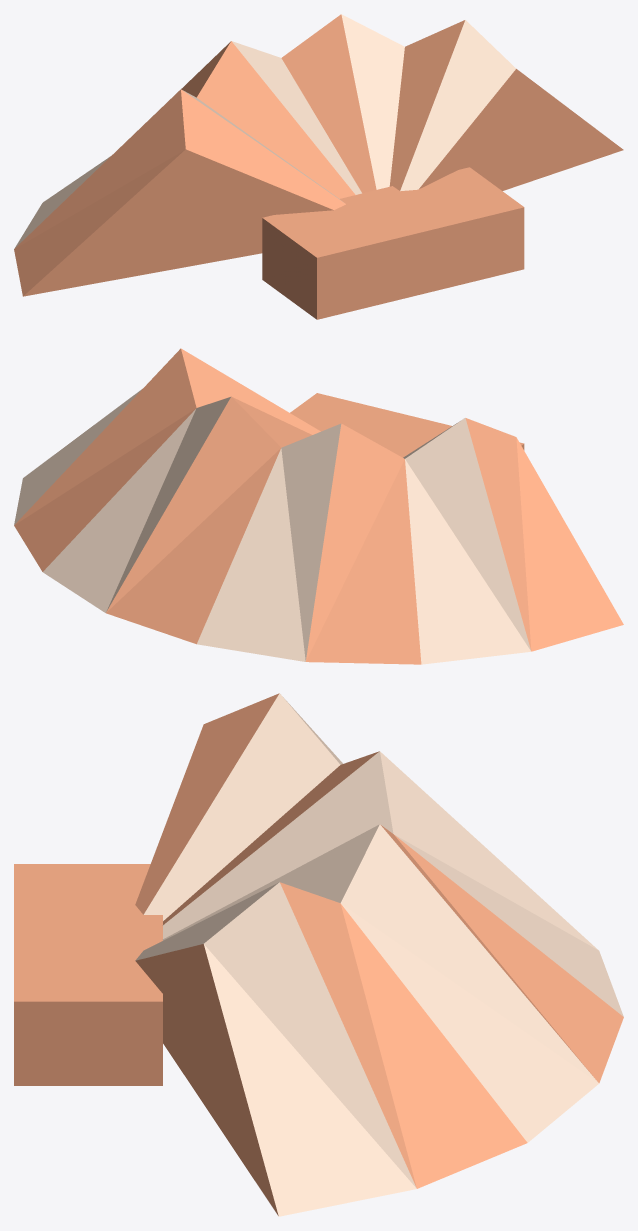
File: shell_scallop.fbx
3 views of the same model, one above another, from view 1: azimuth 30°, elevation 25°; view 2: azimuth 150°, elevation 25°; view 3: azimuth 270°, elevation 25° (orthographic). The views are drawn at different scales.
Visible parts, largest first — view 1: shell_scallop; view 2: shell_scallop; view 3: shell_scallop.
Part boxes in pixels (x1,y1,x2,y2): shell_scallop: (14, 14, 623, 319); shell_scallop: (14, 348, 623, 664); shell_scallop: (14, 693, 623, 1216).
Bounding box in the file's own units: 203 × 54.4 × 131.
1 material, 1 textured.
